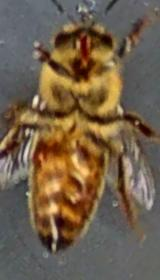varroa_mite: (23, 140, 50, 169)
